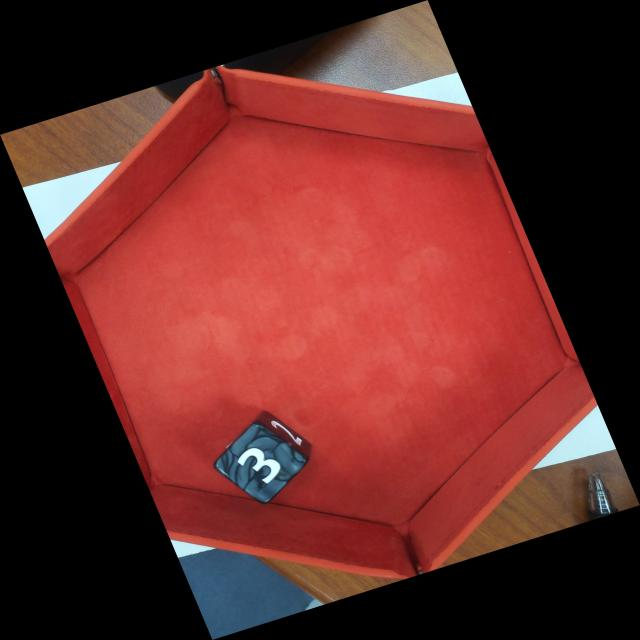dice: (209, 422, 308, 506)
